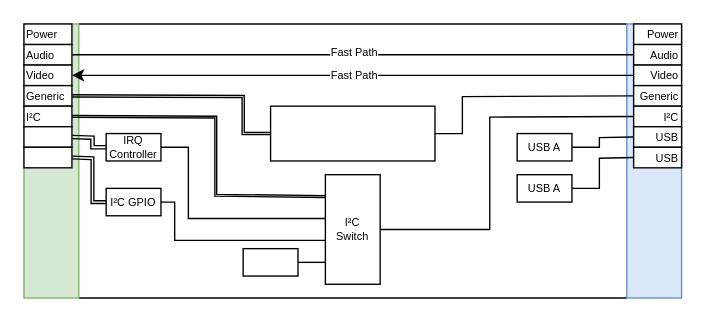
Some shapes in this 706 by 323 pixel diagram are drawn without their labels. Here are the shapes that lost their labels. From the top down, the centre of each, then its label:
point (47, 136): IRQ
point (352, 133): Southbridge
point (47, 157): Detect
point (270, 261): Header
